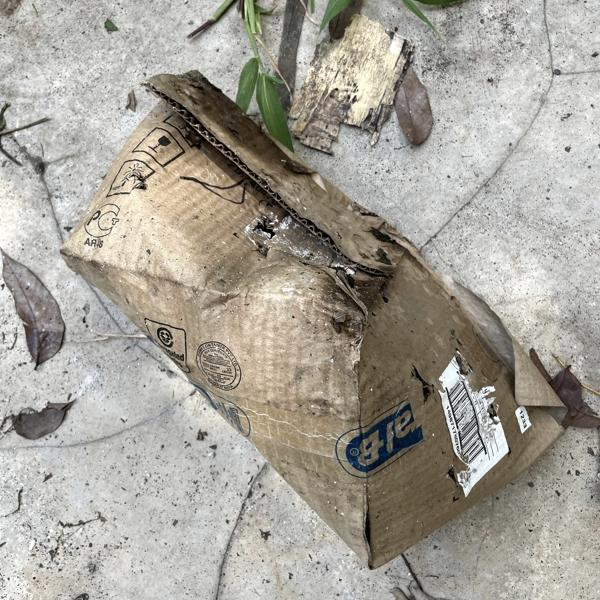Organik: (53, 67, 567, 575)
